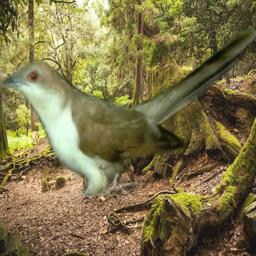Cuckoo: (0, 25, 256, 196)
